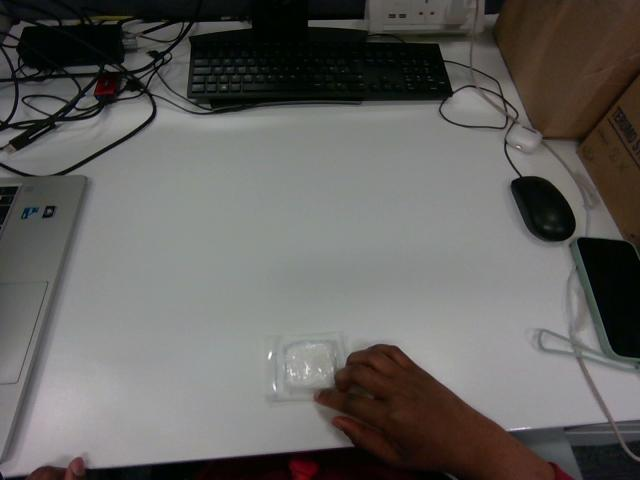gauze: (266, 333, 345, 401)
